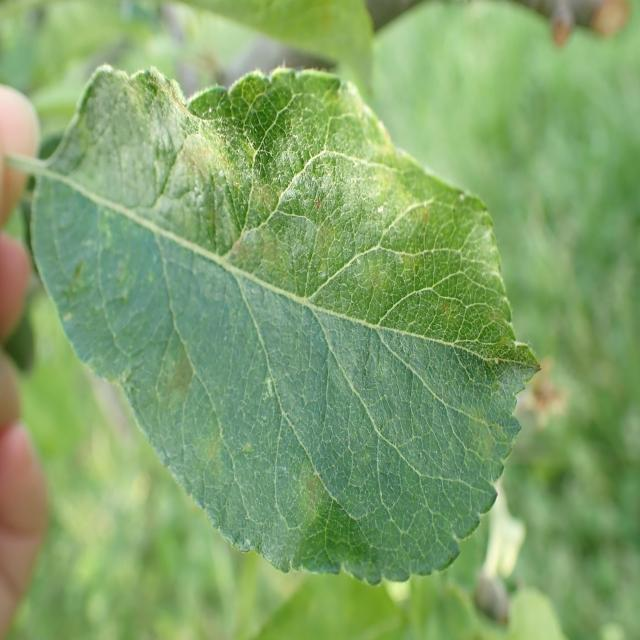scab: (55, 51, 502, 544)
